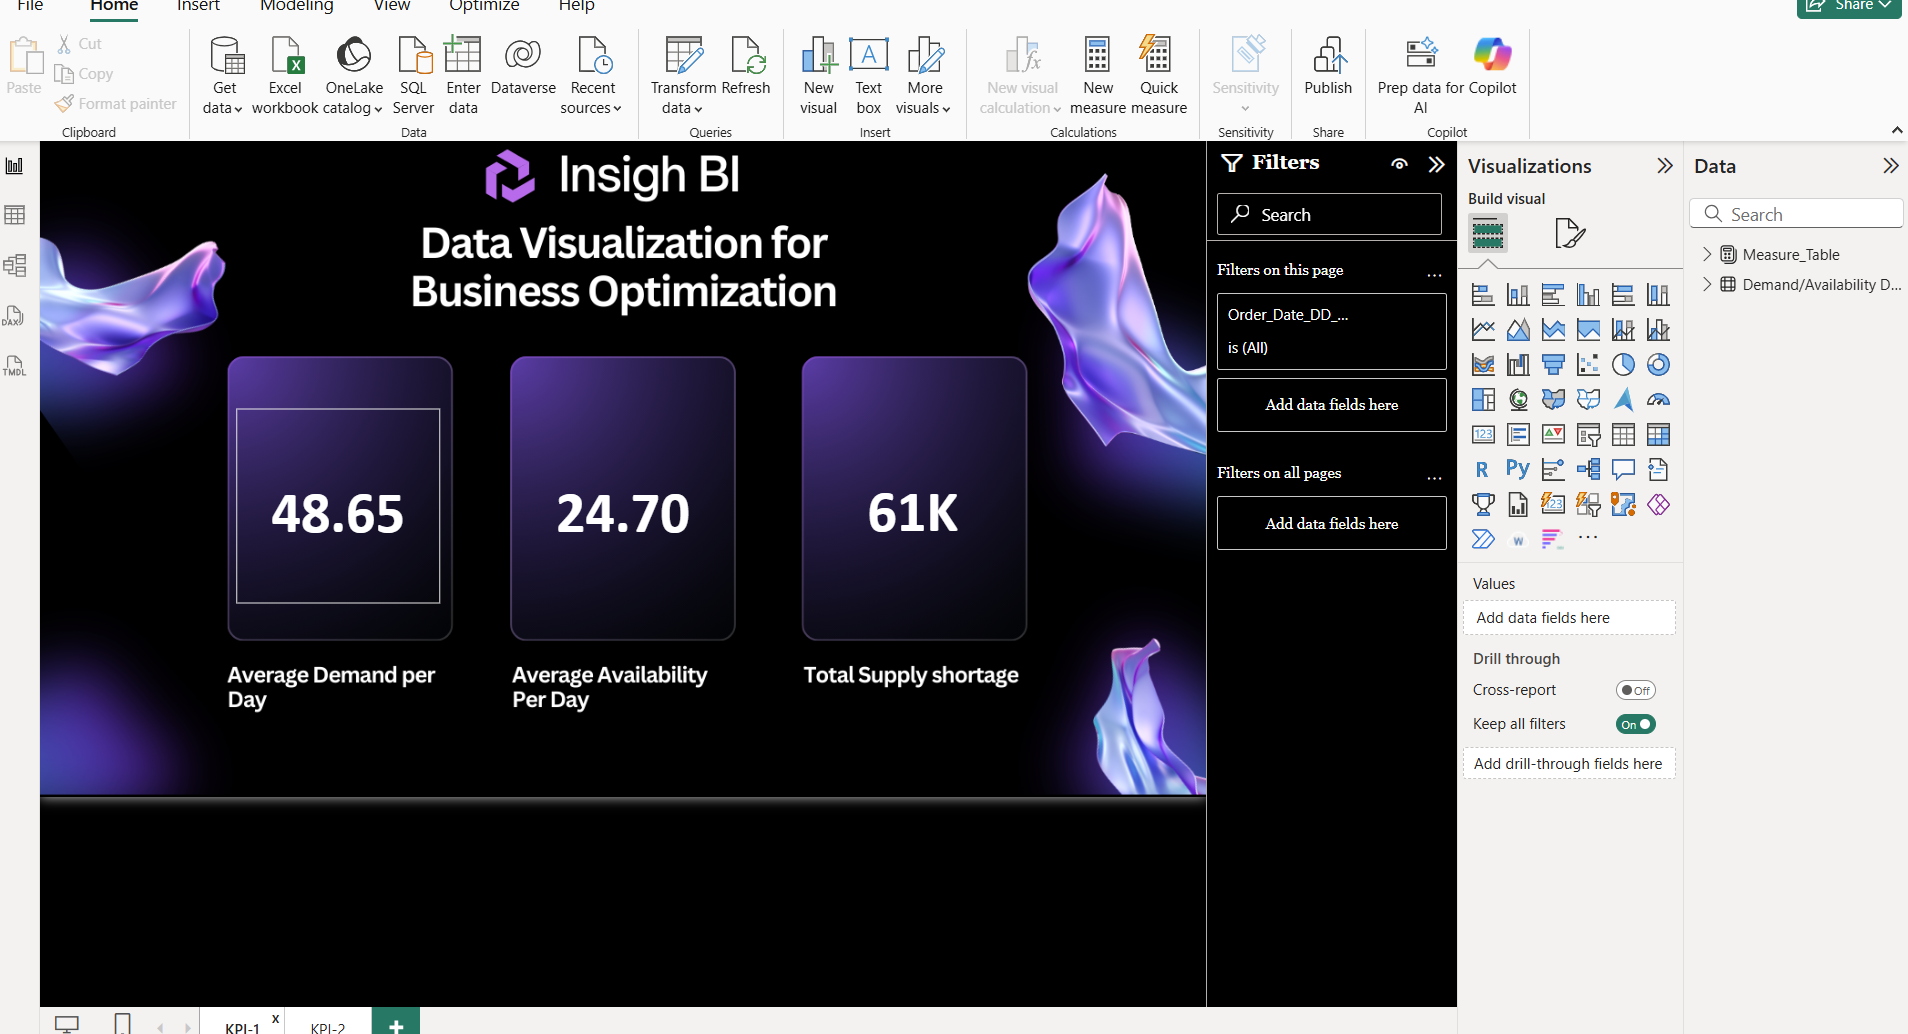

The page's visual inventory and layout, read from the dashboard file:
{"tool":"powerbi","page":{"name":"KPI-1","canvas":[1280,720],"ordinal":0},"visuals":[{"type":"card","fields":{"Values":["Measure_Table.Total Supply shortage"]},"box":[846.9,292.5,223.6,215.7],"z":0},{"type":"card","fields":{"Values":["Measure_Table.Average availability per day"]},"box":[528.4,293.6,223.6,215.7],"z":1000},{"type":"card","fields":{"Values":["Measure_Table.Average demand per Day"]},"box":[215.1,293,224.4,215.1],"z":2000}]}

Visuals, with their boxes on the page's 1280x720 design canvas (x1, y1, x2, y2). These are canvas units, not pixel positions in the 1908x1034 screenshot, which may show the page scaled, cropped or inside an application window:
card - Measure_Table.Total Supply shortage: crop(847, 292, 1070, 508)
card - Measure_Table.Average availability per day: crop(528, 294, 752, 509)
card - Measure_Table.Average demand per Day: crop(215, 293, 440, 508)
